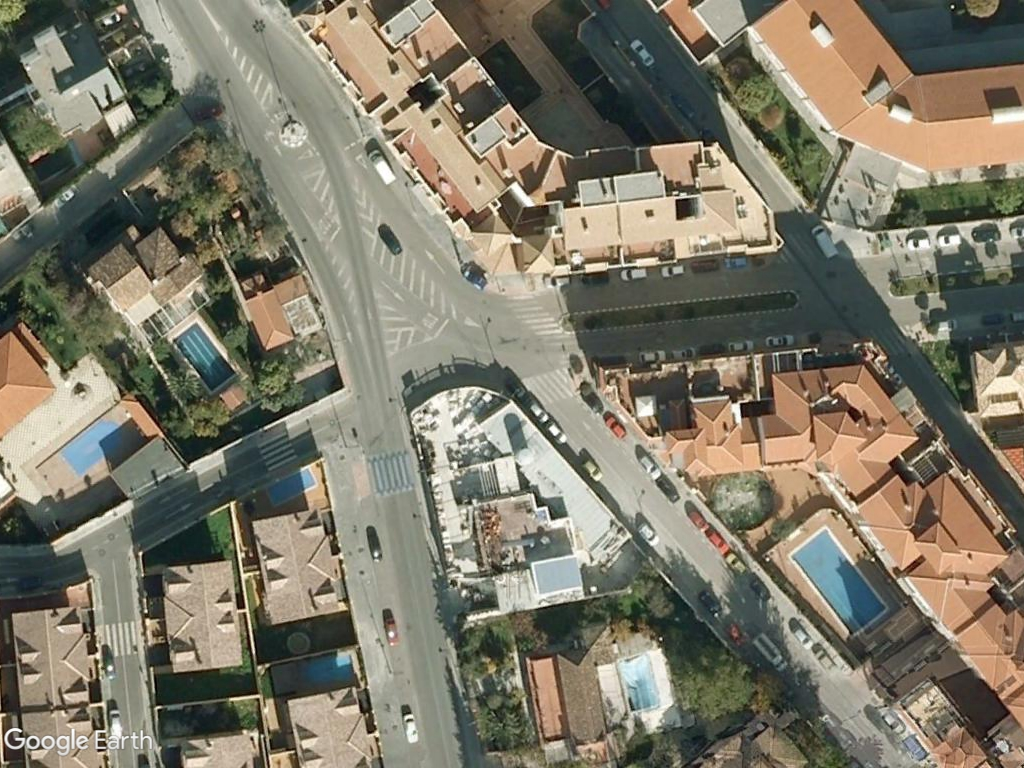car: (623, 33, 660, 71), (399, 708, 424, 750), (603, 409, 631, 444), (761, 328, 802, 351), (380, 612, 401, 653), (723, 336, 760, 356), (634, 346, 669, 366), (658, 260, 691, 281), (615, 265, 652, 283)
other: (359, 527, 389, 569), (378, 225, 408, 259)
truck: (745, 628, 795, 676)
van: (803, 220, 849, 263), (363, 148, 401, 189)
